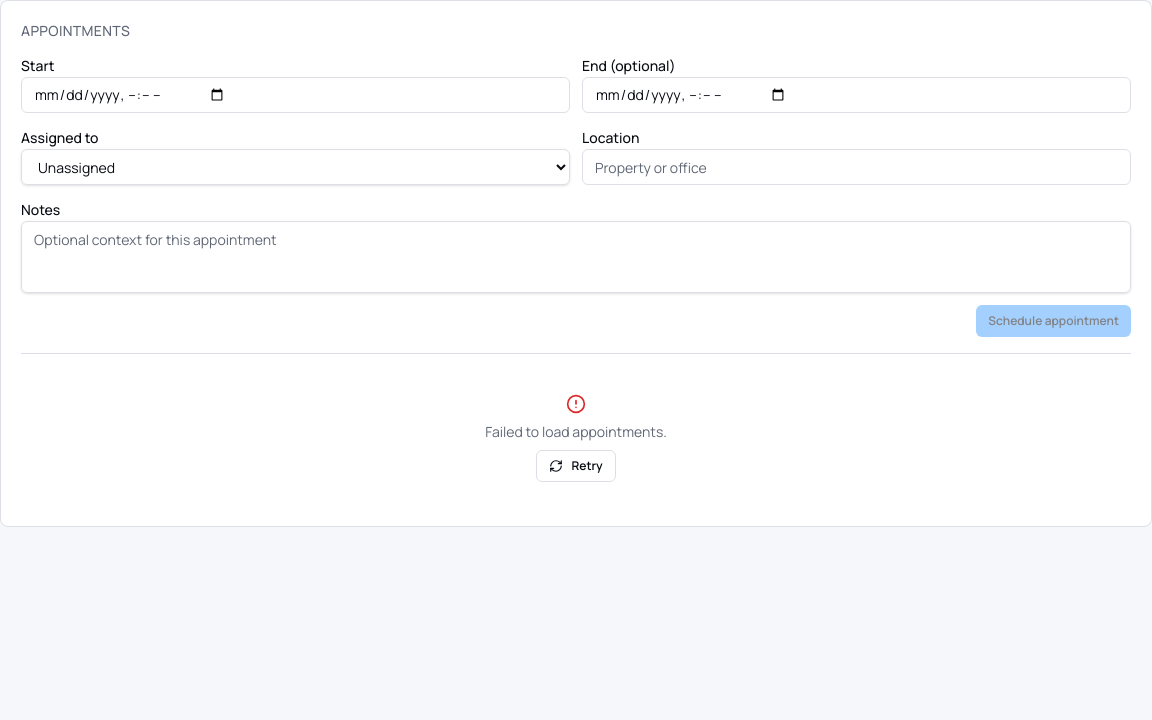
Test case: AppointmentList › shows a fetch error with retry
The width and height of the screenshot is (1152, 720).
expect the text "Failed to load appointments." is shown: met, box [485,422,667,442]
Click the button "Retry".
click(576, 466)  # box [536,450,616,482]
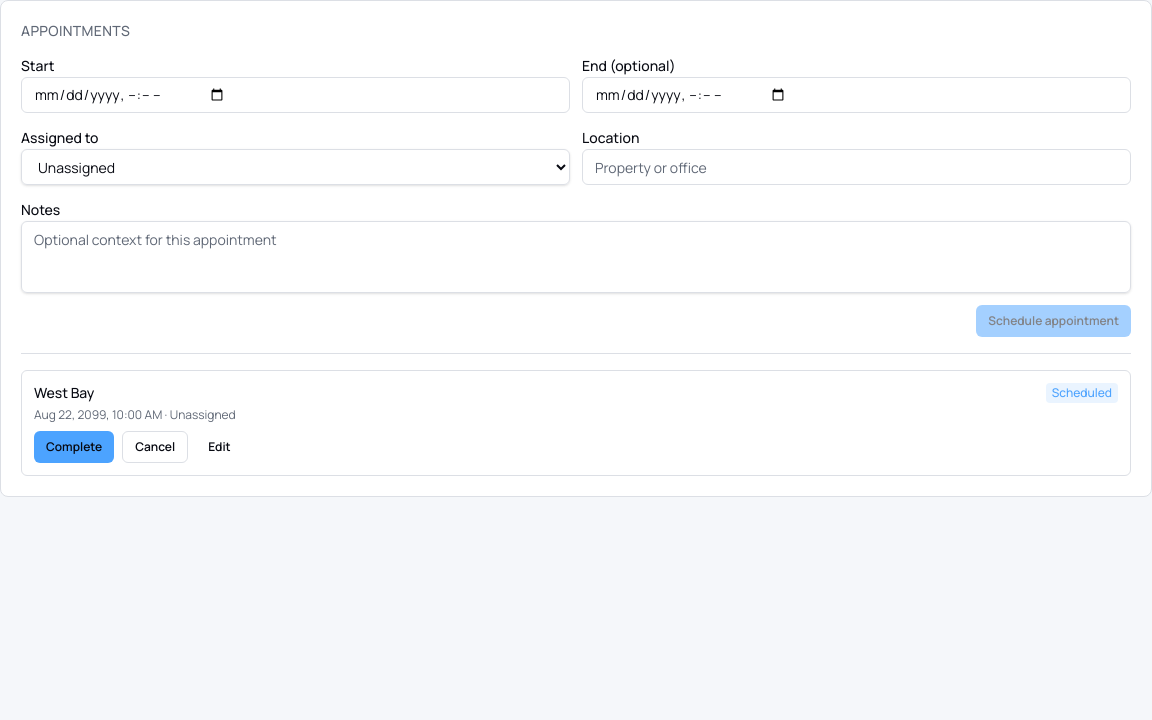
expect the text "West Bay" is shown: met, box [34,383,94,402]
